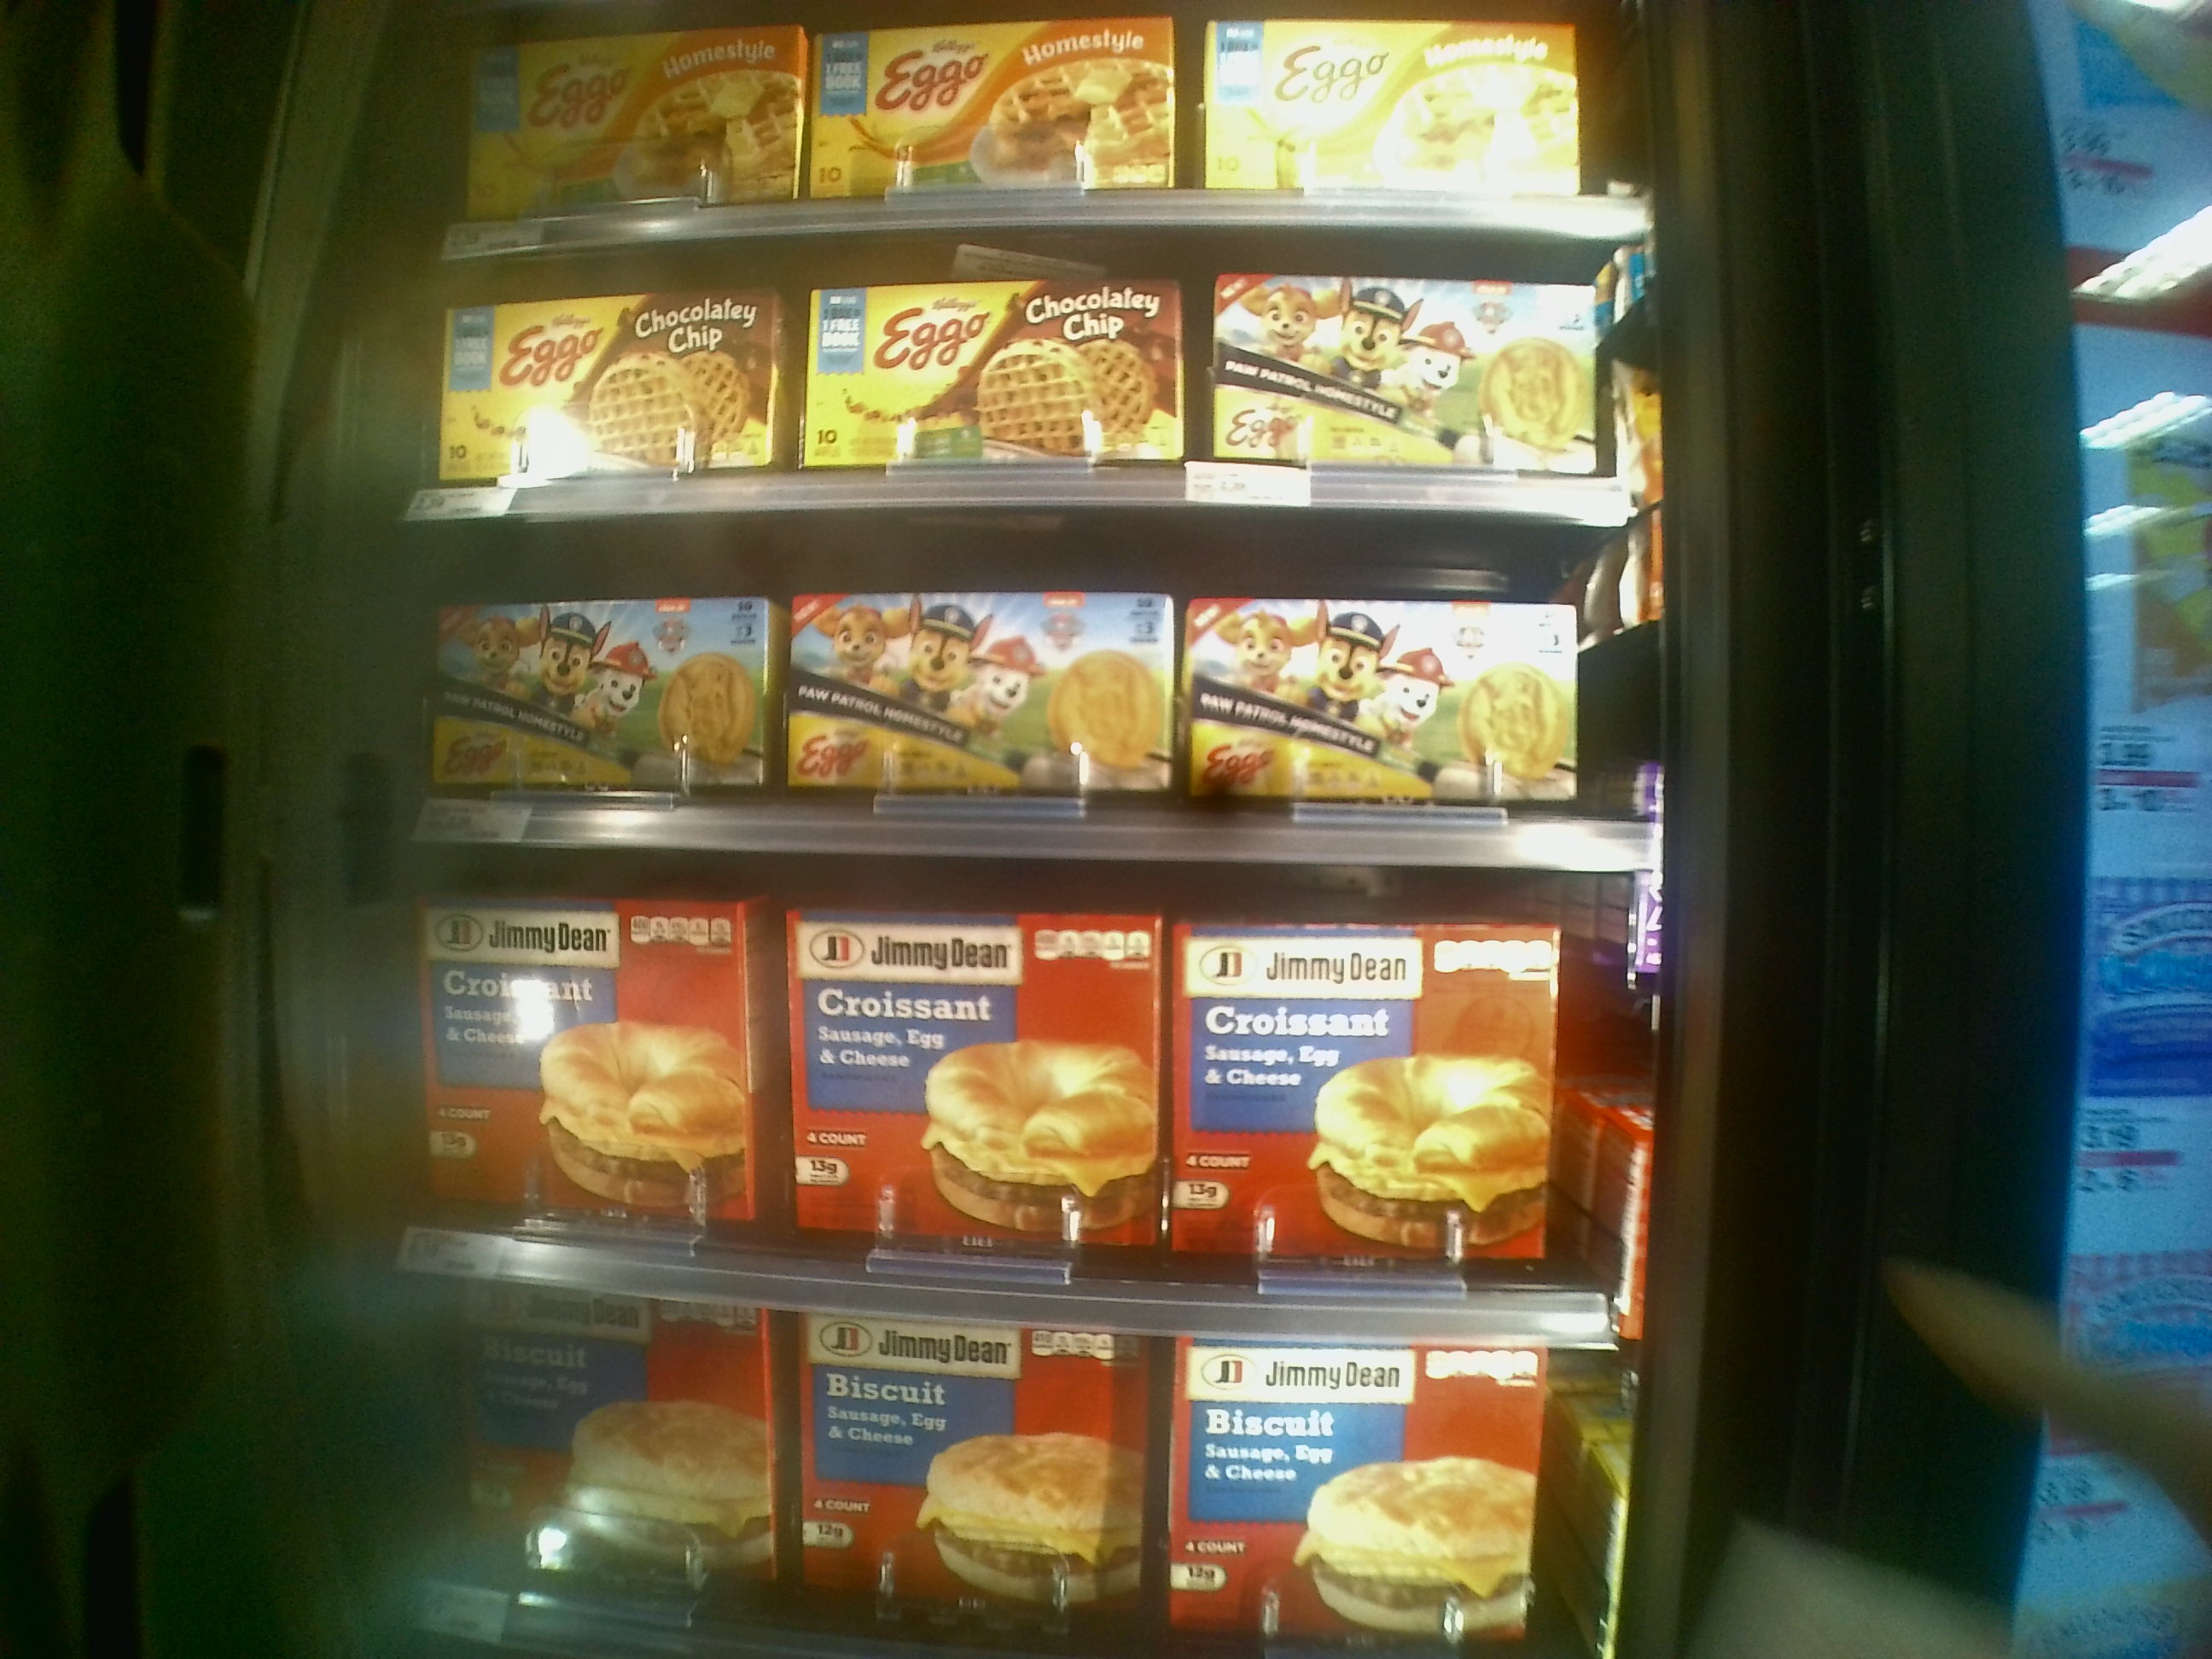shelf: (376, 838, 1622, 1331), (415, 495, 1634, 863)
